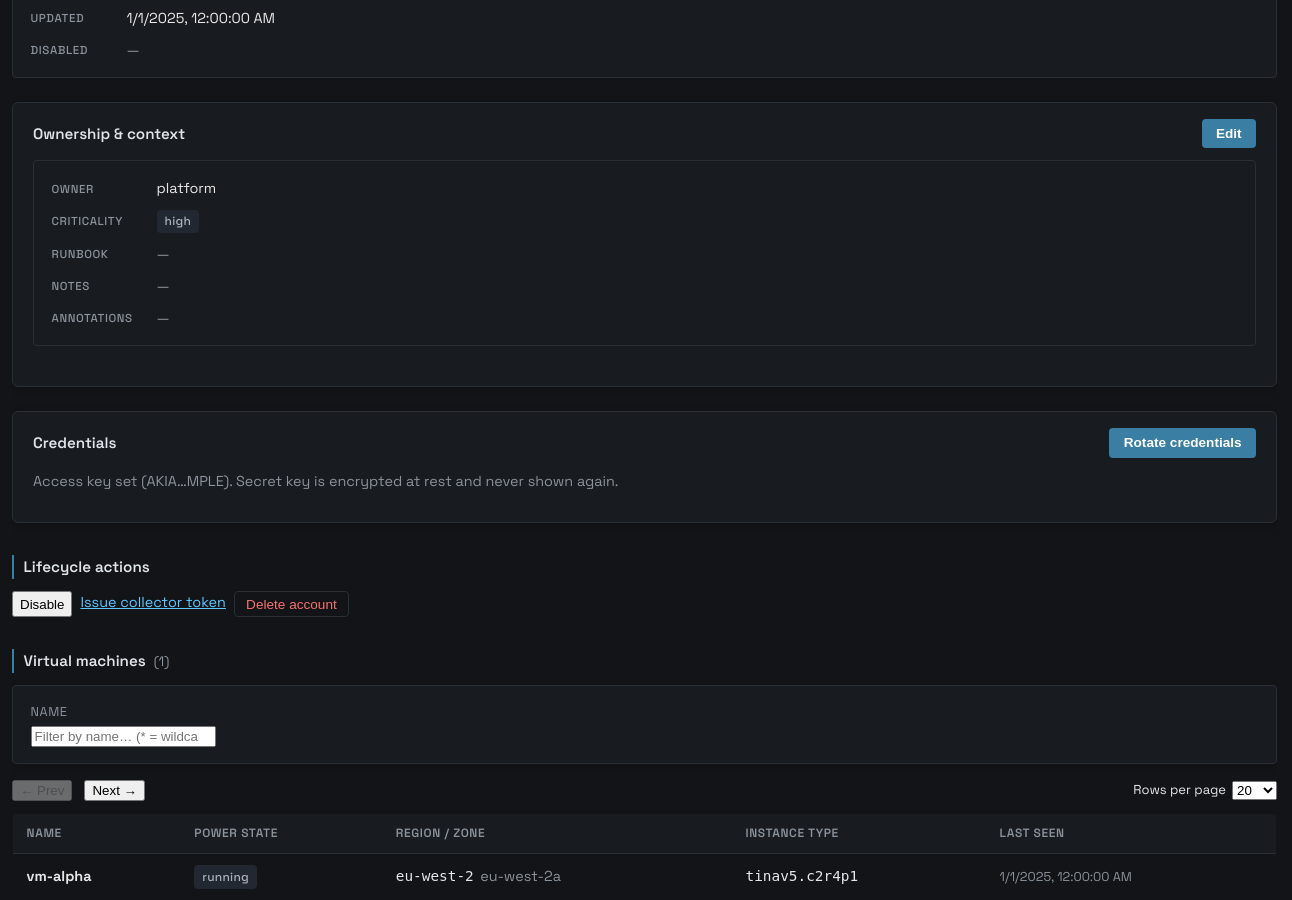
Test case: CloudAccountDetailPage › VM list paginates across cursor pages (no silent 50-row cap)
The width and height of the screenshot is (1292, 900).
(page scrolled)
Expected: the text "vm-alpha" is shown, [27,867,92,885]
Click the button "Next →" at (115, 790), box [84,780,145,801]
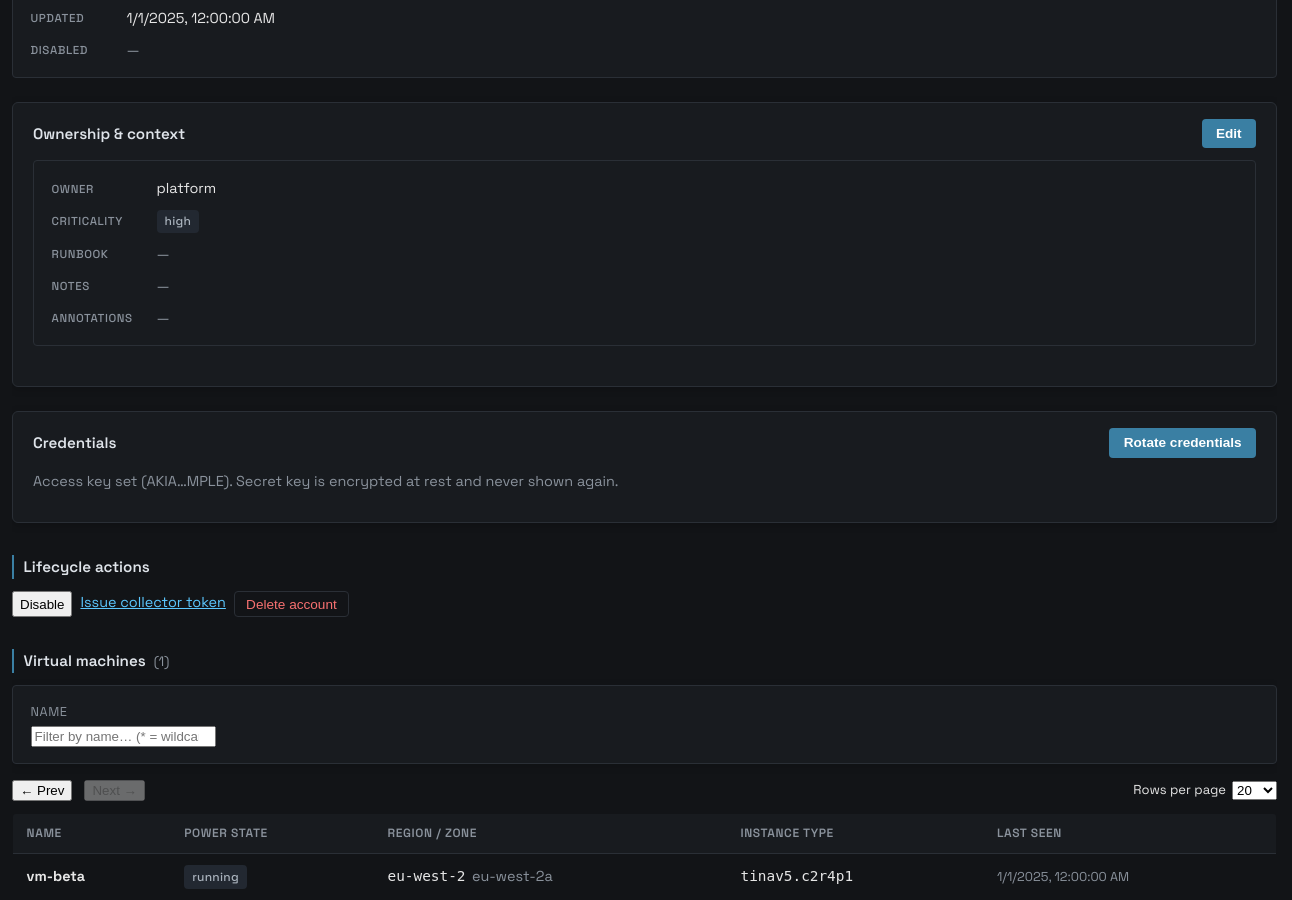
Now the text "vm-beta" is shown, box [27,867,85,885]
Now the link "vm-alpha" is gone
